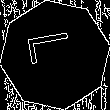L_E: (28, 36, 82, 74)
